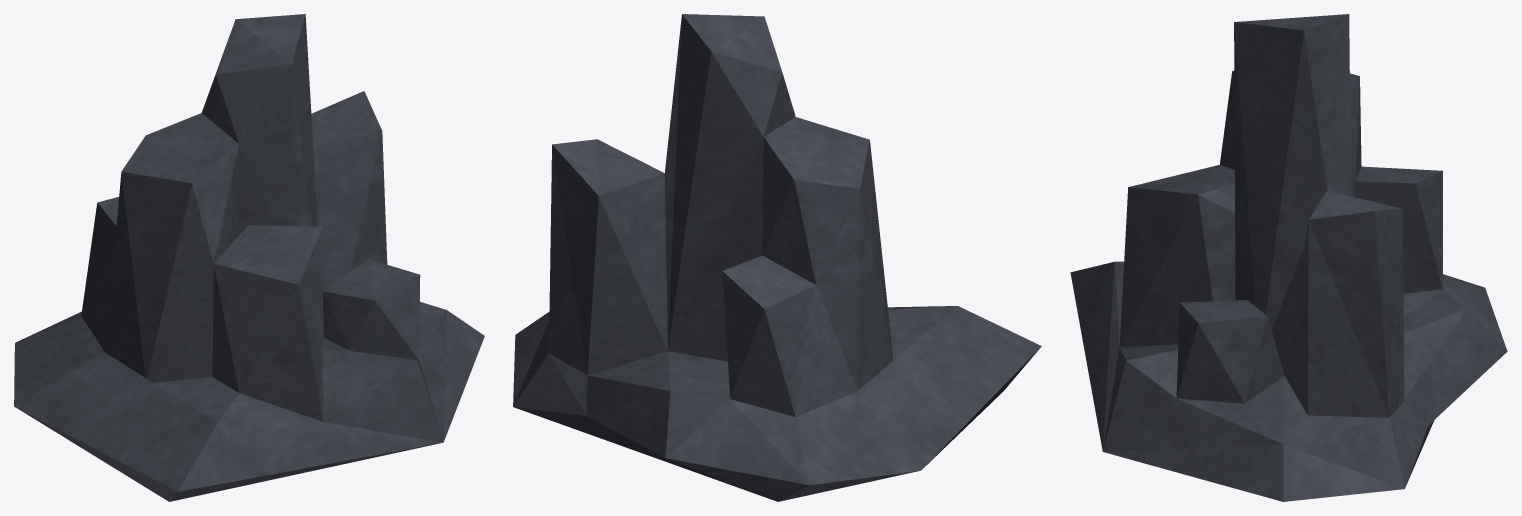
File: volcanic_basalt_columns_LOD1.glb
3 renders of one model, left to right at view 1: azimuth 30°, elevation 25°; view 2: azimuth 150°, elevation 25°; view 3: azimuth 270°, elevation 25°, orthographic. The views are drawn at different scales.
Visible parts, largest first — view 1: volcanic_basalt_columns_LOD1; view 2: volcanic_basalt_columns_LOD1; view 3: volcanic_basalt_columns_LOD1.
Boxes of the visible parts, box(x1,y1,x2,y2) form: volcanic_basalt_columns_LOD1: box(14, 14, 484, 501); volcanic_basalt_columns_LOD1: box(513, 14, 1041, 501); volcanic_basalt_columns_LOD1: box(1070, 14, 1507, 501).
Bounding box in the file's own units: 2.33 × 1.92 × 1.91.
Materials: 1 (1 with a texture image).
